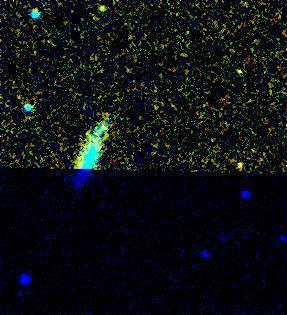star: (222, 149, 252, 179)
